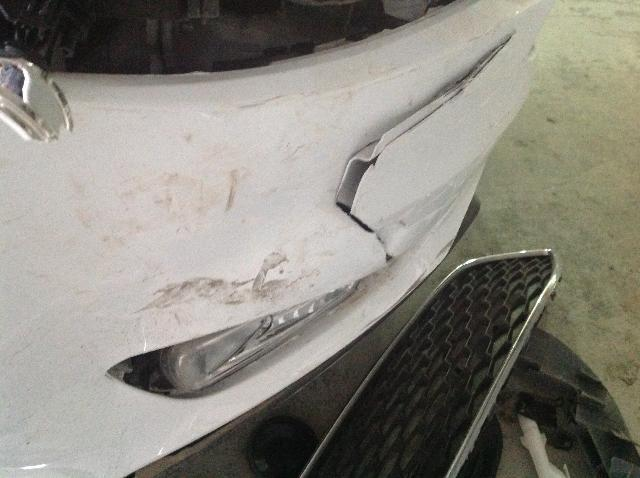crack: (329, 34, 543, 271)
no part: (0, 0, 453, 74)
rub: (139, 247, 326, 323), (97, 163, 249, 245)
